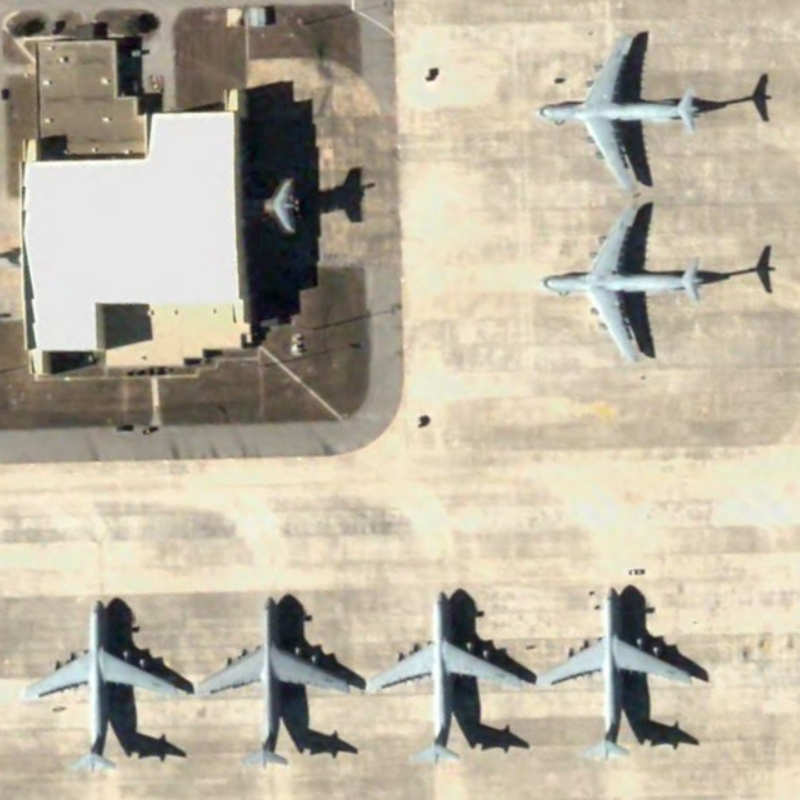A4: (18, 586, 193, 775), (365, 581, 537, 770), (193, 587, 366, 773), (525, 20, 704, 199), (528, 196, 714, 368), (539, 574, 708, 763)
